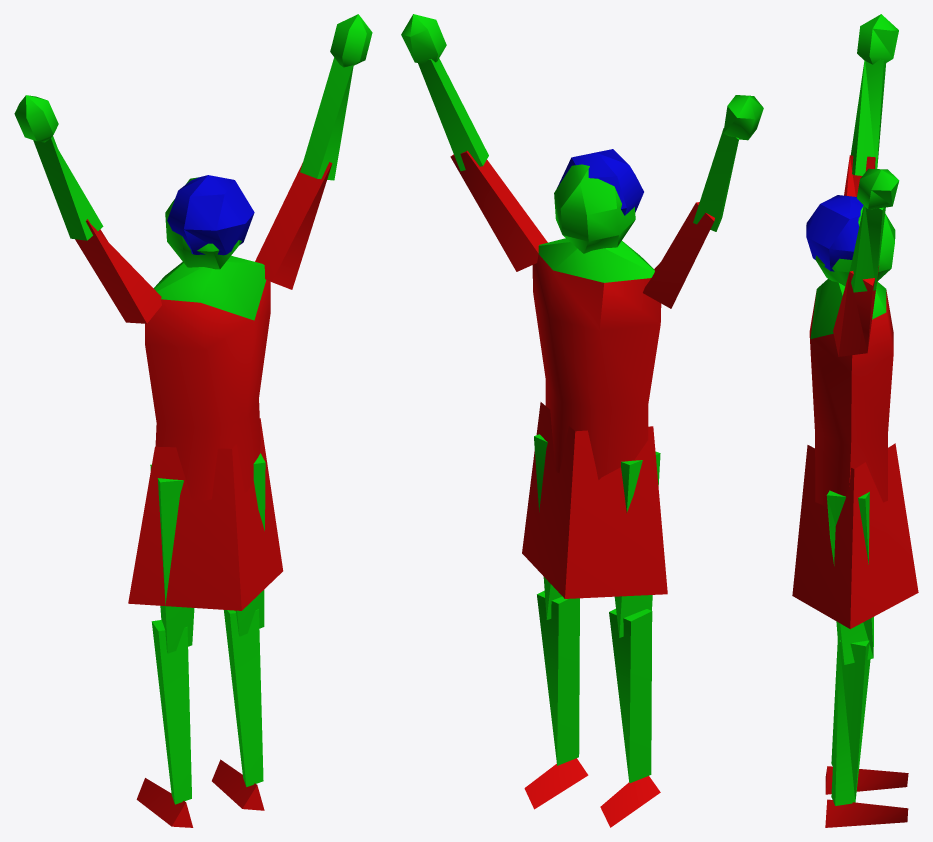
Rendered from stand_cheer_both_arms_lod1.glb.
The picture shows the model from 3 angles, left to right: view 1: azimuth 30°, elevation 25°; view 2: azimuth 150°, elevation 25°; view 3: azimuth 270°, elevation 25°; orthographic projection. The views are drawn at different scales.
Parts seen in each view (by area): view 1: OUT_1; view 2: OUT_1; view 3: OUT_1.
Boxes of the visible parts, left/top/right/bottom form: OUT_1: left=14, top=14, right=372, bottom=827; OUT_1: left=401, top=14, right=763, bottom=827; OUT_1: left=792, top=14, right=918, bottom=827.
Size of the model in its own units: 0.981 by 2 by 0.319.
